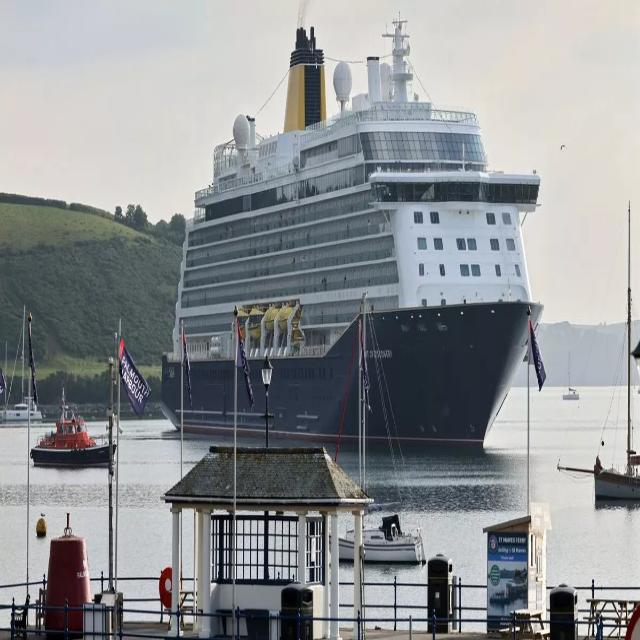PassengerShip: (148, 21, 574, 472)
